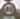limite 40: (1, 1, 16, 15)
